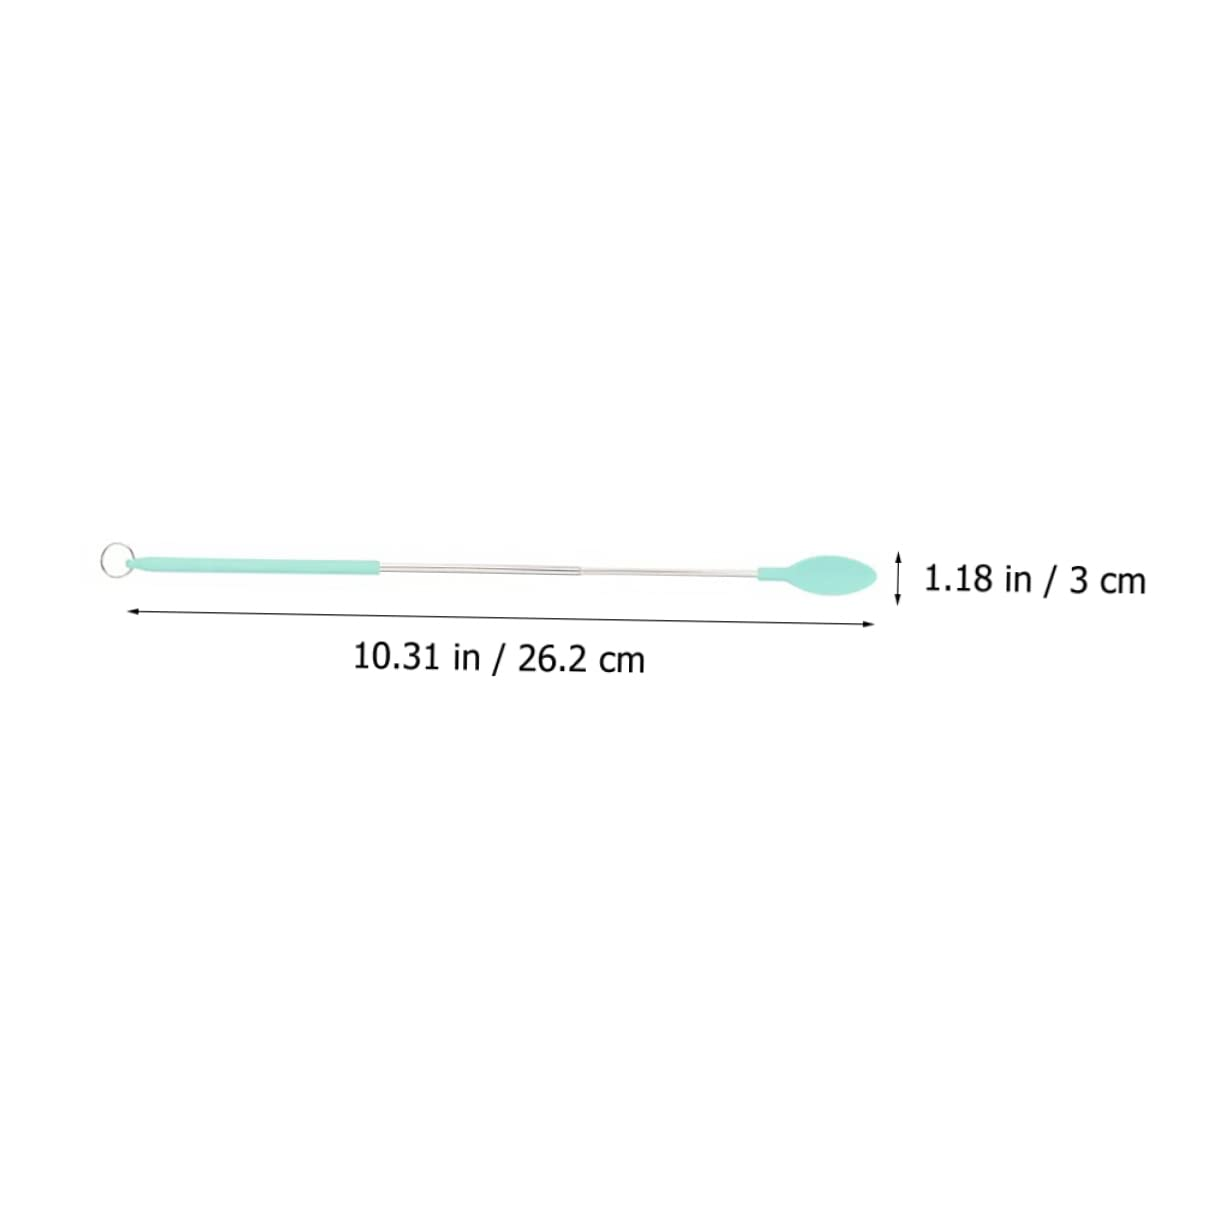-: (128, 608, 140, 615)
/: (492, 643, 506, 676)
1.18: (926, 563, 991, 592)
10.31: (355, 641, 439, 670)
26.2: (519, 645, 586, 673)
cm: (600, 651, 645, 673)
in: (455, 643, 479, 671)
